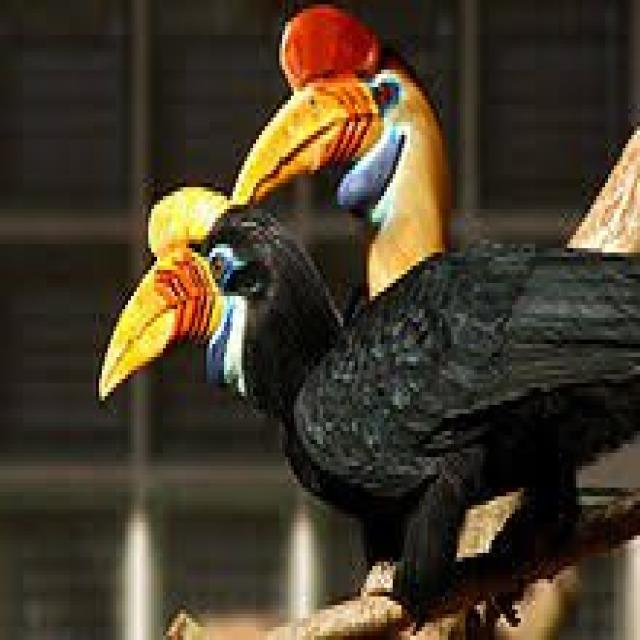Hornbill: (98, 193, 640, 575), (234, 18, 461, 274)
